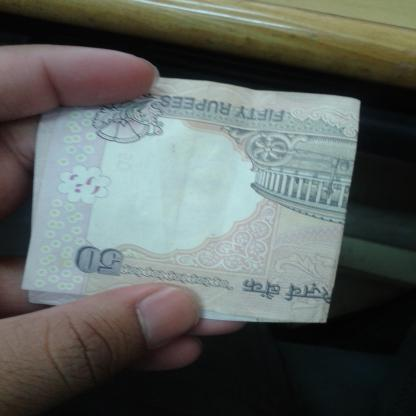Old50Back: (20, 78, 363, 324)
